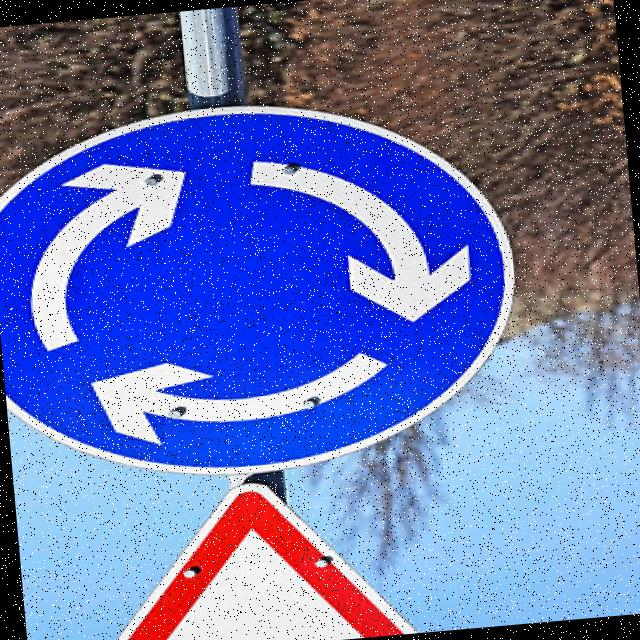round_about: (0, 79, 537, 499)
